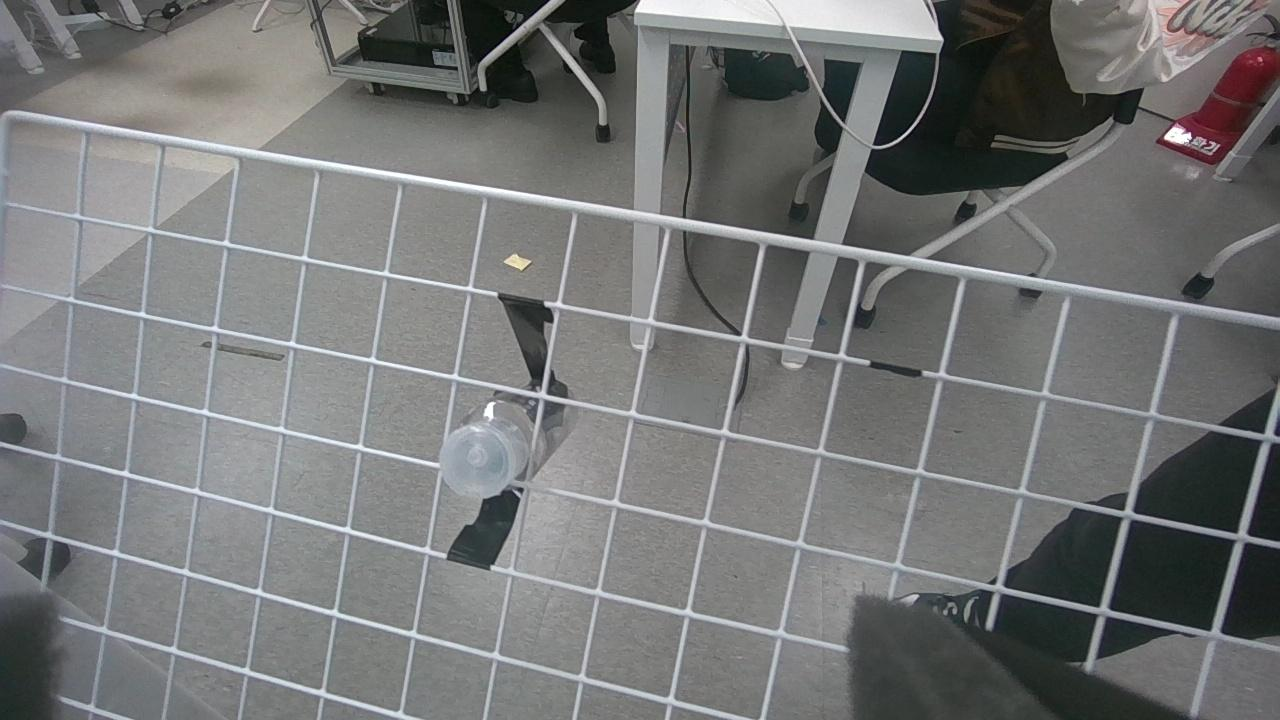Cap: (438, 426, 510, 501)
